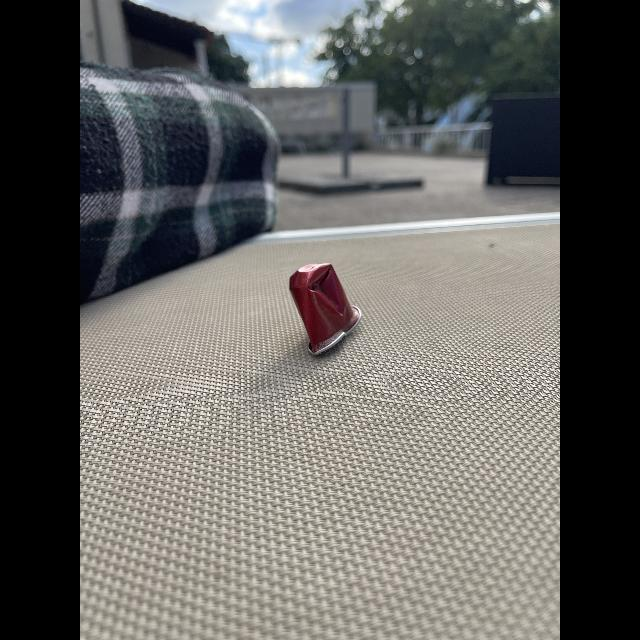damaged_capsule: (286, 258, 369, 360)
